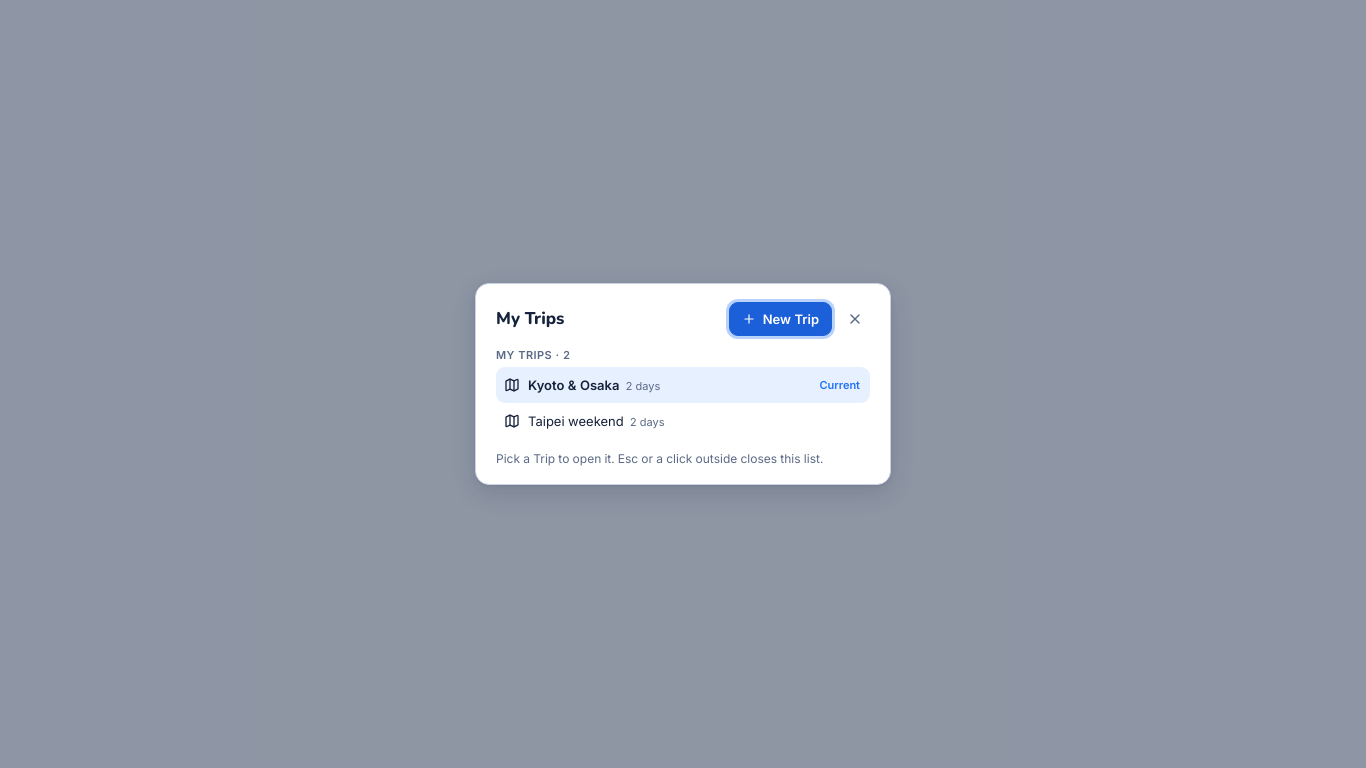
New Trip › offers Blank Trip and Import backup…, and Generate with AI only with generation
The width and height of the screenshot is (1366, 768).
Click the button "New Trip" at coordinates (780, 319), box [729,302,832,336]
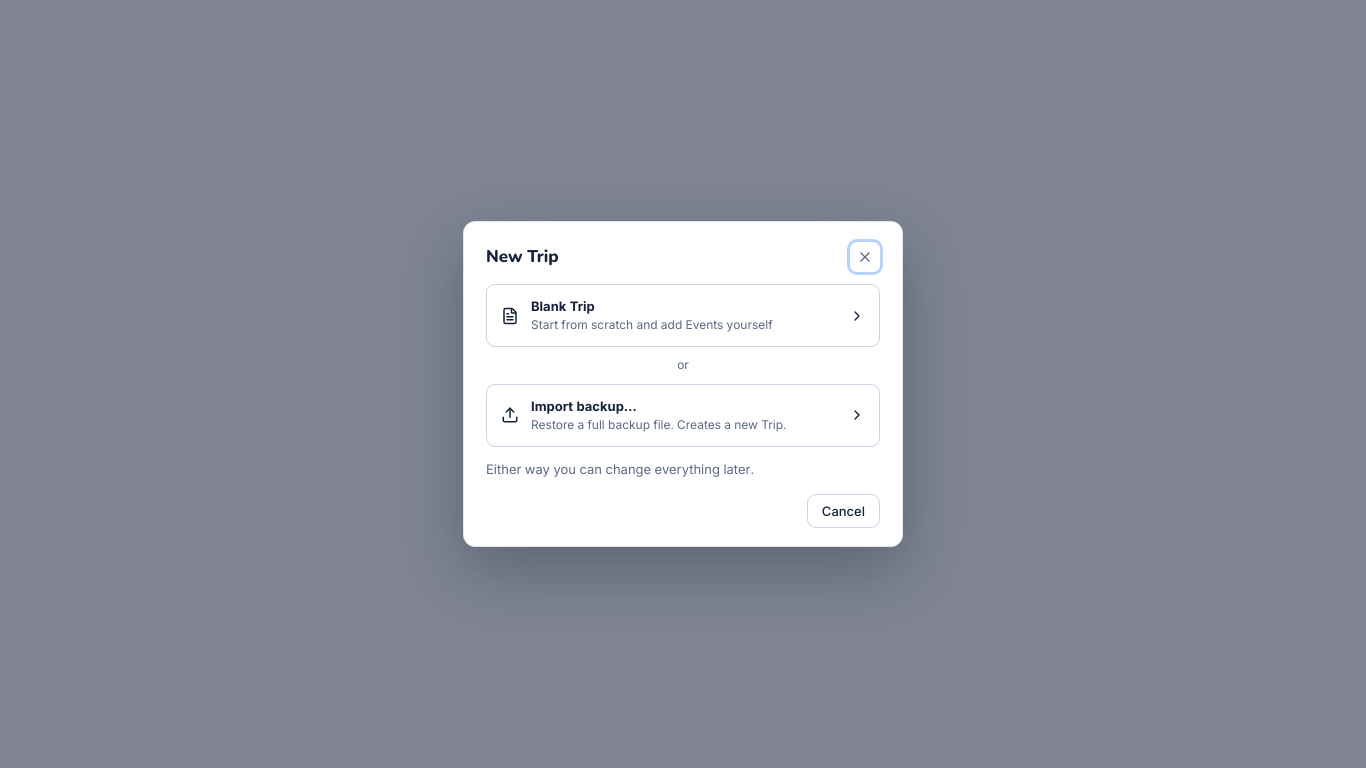
Expected: the button "Blank Trip Start from scratch and add Events yourself" is shown, [486,284,880,347]
Expected: the button "Import backup…" is shown, [486,384,880,447]
